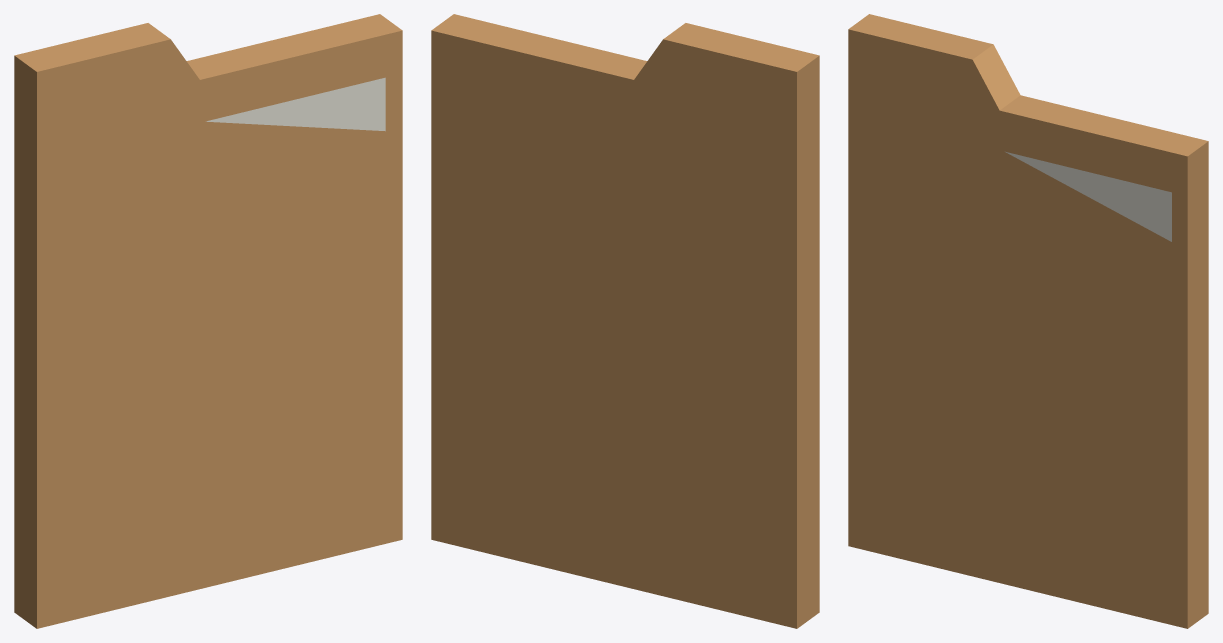
3 views of the same model, side by side, from view 1: azimuth 30°, elevation 25°; view 2: azimuth 150°, elevation 25°; view 3: azimuth 330°, elevation 25° (orthographic). The views are drawn at different scales.
Parts seen in each view (by area): view 1: Cube.001; view 2: Cube.001; view 3: Cube.001.
Boxes of the visible parts, x1=… form: Cube.001: x1=14, y1=14, x2=402, y2=628; Cube.001: x1=431, y1=14, x2=819, y2=628; Cube.001: x1=848, y1=14, x2=1208, y2=628.
Size of the model in its own units: 0.2891 by 0.4207 by 0.0309.
